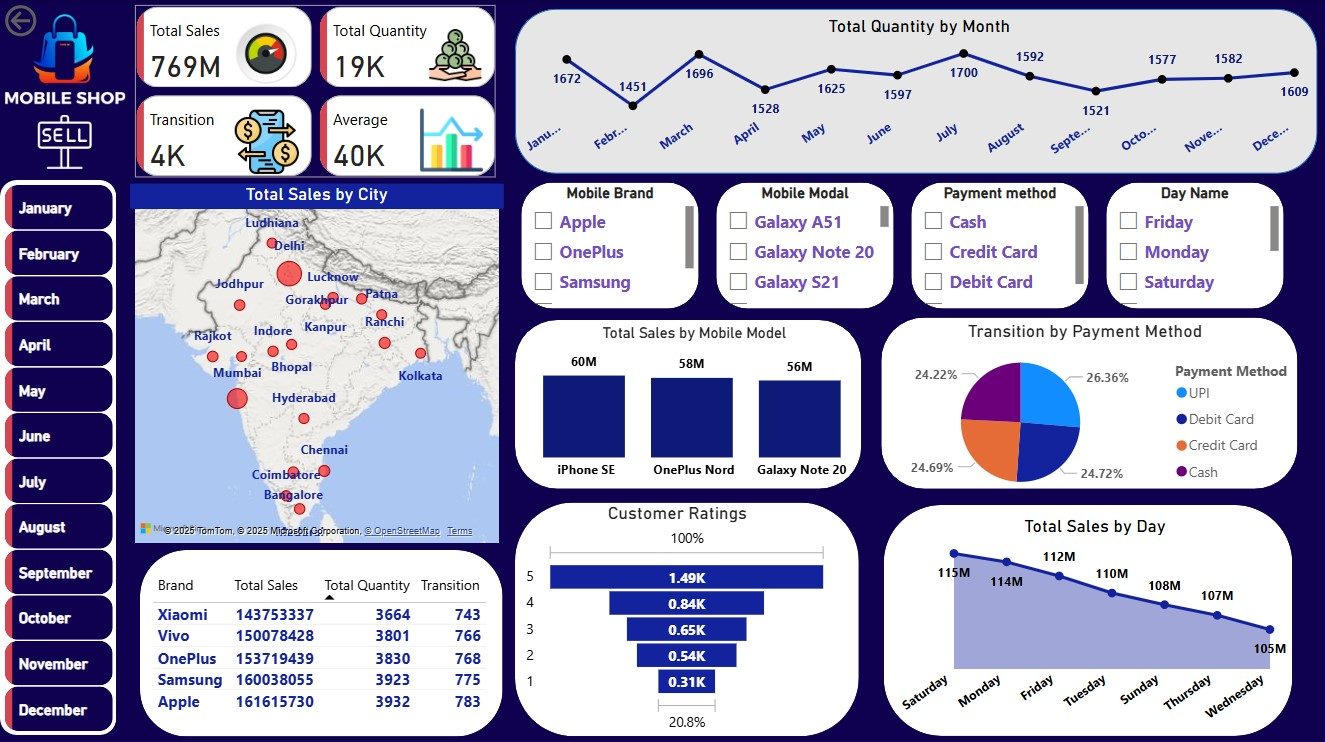

This screenshot's page, from the dashboard's own definition file:
{"tool":"powerbi","page":{"name":"Page 1","canvas":[1280,720],"ordinal":0},"visuals":[{"type":"shape","box":[135.7,531.4,350,180],"z":0},{"type":"shape","box":[691.3,176.1,171.3,121.9],"z":1000},{"type":"shape","box":[879.5,176.1,171.3,121.9],"z":2000},{"type":"shape","box":[1067.7,176.1,171.3,121.9],"z":3000},{"type":"shape","box":[503.1,176.1,171.3,121.9],"z":4000},{"type":"shape","box":[852.9,487.1,394.3,222.9],"z":5000},{"type":"areaChart","title":"Total Sales by Day","fields":{"Y":["Sales Data.Total Sales"],"Category":["Sales Data.Day Name.1"]},"box":[850.5,497.1,413.8,212.3],"z":6000},{"type":"shape","box":[850.5,306.4,401.7,165.3],"z":7000},{"type":"shape","box":[497.1,308.8,334.2,162.9],"z":8000},{"type":"shape","box":[497.1,8.4,774.5,159.3],"z":9000},{"type":"shape","box":[0,173.7,112.2,535.7],"z":10000},{"type":"advancedSlicerVisual","fields":{"Values":["Sales Data.Date.Variation.Date Hierarchy.Month"]},"box":[0,173.7,114.6,546.5],"z":11000},{"type":"cardVisual","fields":{"Data":["Sales Data.Total Sales","Sales Data.Total Quantity","Sales Data.Transition","Sales Data.Average"]},"box":[125.5,0,359.5,177.3],"z":12000},{"type":"map","fields":{"Category":["Sales Data.City"],"Size":["Sales Data.Total Sales"]},"box":[125.5,177.3,360.7,352.3],"z":13000},{"type":"lineChart","fields":{"Category":["Sales Data.Date.Variation.Date Hierarchy.Month","Sales Data.Date.Variation.Date Hierarchy.Day"],"Y":["Sales Data.Total Quantity"]},"box":[494.6,14.5,785.4,147.2],"z":14000},{"type":"columnChart","fields":{"Category":["Sales Data.Mobile Model"],"Y":["Sales Data.Total Sales"]},"box":[477.8,312.5,384.9,159.3],"z":15000},{"type":"pieChart","fields":{"Category":["Sales Data.Payment Method"],"Y":["Sales Data.Transition"]},"box":[831.2,308.8,431.9,178.6],"z":16000},{"type":"shape","box":[497.1,485,331.8,225.6],"z":17000},{"type":"funnel","title":"Customer Ratings","fields":{"Category":["Sales Data.Customer Ratings"],"Y":["CountNonNull(Sales Data.Customer Ratings)"]},"box":[503.1,485,301.6,225.6],"z":18000},{"type":"tableEx","fields":{"Values":["Sales Data.Brand","Sales Data.Total Sales","Sales Data.Total Quantity","Sales Data.Transition"]},"box":[137.5,539.3,340.2,170.1],"z":19000},{"type":"actionButton","box":[0,0,100,40],"z":20000},{"type":"slicer","title":"Mobile Modal","fields":{"Values":["Sales Data.Mobile Model"]},"box":[691.3,177.3,171.3,120.6],"z":21000},{"type":"slicer","title":"Payment method","fields":{"Values":["Sales Data.Payment Method"]},"box":[879.5,177.3,171.3,120.6],"z":22000},{"type":"slicer","title":"Mobile Brand","fields":{"Values":["Sales Data.Brand"]},"box":[503.1,177.3,171.3,120.6],"z":23000},{"type":"slicer","title":"Day Name","fields":{"Values":["Sales Data.Day Name.1"]},"box":[1067.7,177.3,171.3,120.6],"z":24000},{"type":"image","box":[0,0,125.5,114.6],"z":25000},{"type":"image","box":[15.7,106.2,92.9,61.5],"z":26000}]}

Visuals, with their boxes in screenshot pixels (x1, y1, x2, y2), scaled from the page's 1280x720 canvas onto the 1325x742 screenshot:
shape: [left=140, top=548, right=503, bottom=733]
shape: [left=716, top=181, right=893, bottom=307]
shape: [left=910, top=181, right=1088, bottom=307]
shape: [left=1105, top=181, right=1283, bottom=307]
shape: [left=521, top=181, right=698, bottom=307]
shape: [left=883, top=502, right=1291, bottom=732]
"Total Sales by Day" areaChart: [left=880, top=512, right=1309, bottom=731]
shape: [left=880, top=316, right=1296, bottom=486]
shape: [left=515, top=318, right=861, bottom=486]
shape: [left=515, top=9, right=1316, bottom=173]
shape: [left=0, top=179, right=116, bottom=731]
advancedSlicerVisual - Sales Data.Date.Variation.Date Hierarchy.Month: [left=0, top=179, right=119, bottom=741]
cardVisual - Sales Data.Total Sales x Sales Data.Total Quantity: [left=130, top=0, right=502, bottom=183]
map - Sales Data.City x Sales Data.Total Sales: [left=130, top=183, right=503, bottom=546]
lineChart - Sales Data.Date.Variation.Date Hierarchy.Month x Sales Data.Date.Variation.Date Hierarchy.Day: [left=512, top=15, right=1324, bottom=167]
columnChart - Sales Data.Mobile Model x Sales Data.Total Sales: [left=495, top=322, right=893, bottom=486]
pieChart - Sales Data.Payment Method x Sales Data.Transition: [left=860, top=318, right=1308, bottom=502]
shape: [left=515, top=500, right=858, bottom=732]
"Customer Ratings" funnel: [left=521, top=500, right=833, bottom=732]
tableEx - Sales Data.Brand x Sales Data.Total Sales: [left=142, top=556, right=494, bottom=731]
actionButton: [left=0, top=0, right=104, bottom=41]
"Mobile Modal" slicer: [left=716, top=183, right=893, bottom=307]
"Payment method" slicer: [left=910, top=183, right=1088, bottom=307]
"Mobile Brand" slicer: [left=521, top=183, right=698, bottom=307]
"Day Name" slicer: [left=1105, top=183, right=1283, bottom=307]
image: [left=0, top=0, right=130, bottom=118]
image: [left=16, top=109, right=112, bottom=173]
